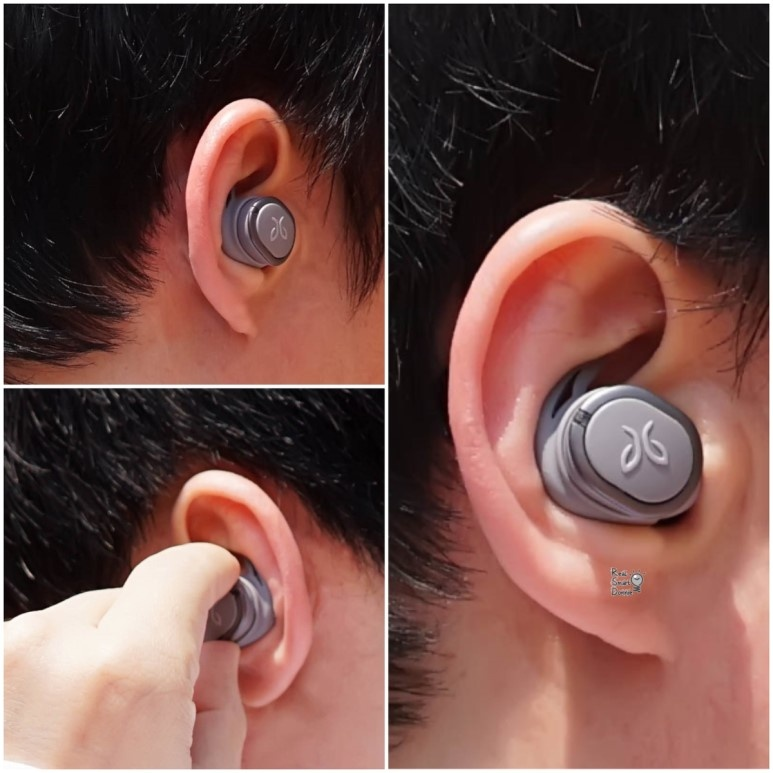earphone: (447, 198, 754, 660), (174, 468, 316, 710), (184, 99, 300, 337)
